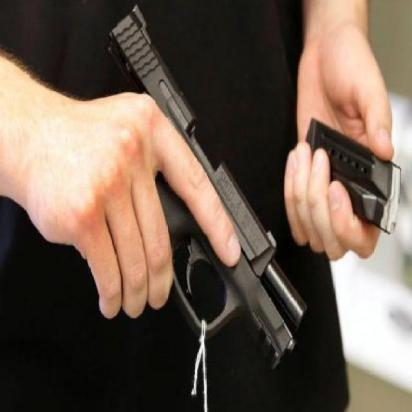Gun: (74, 1, 315, 378)
